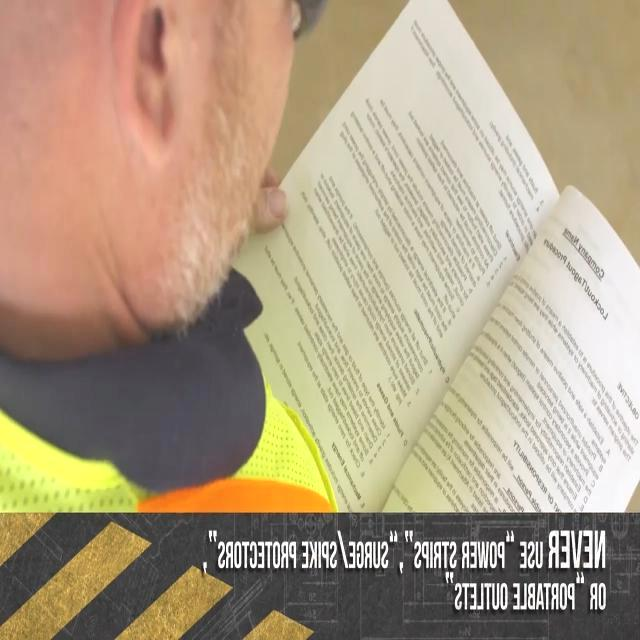no_mask: (114, 1, 298, 330)
person: (1, 0, 337, 512)
vest: (0, 368, 335, 514)
